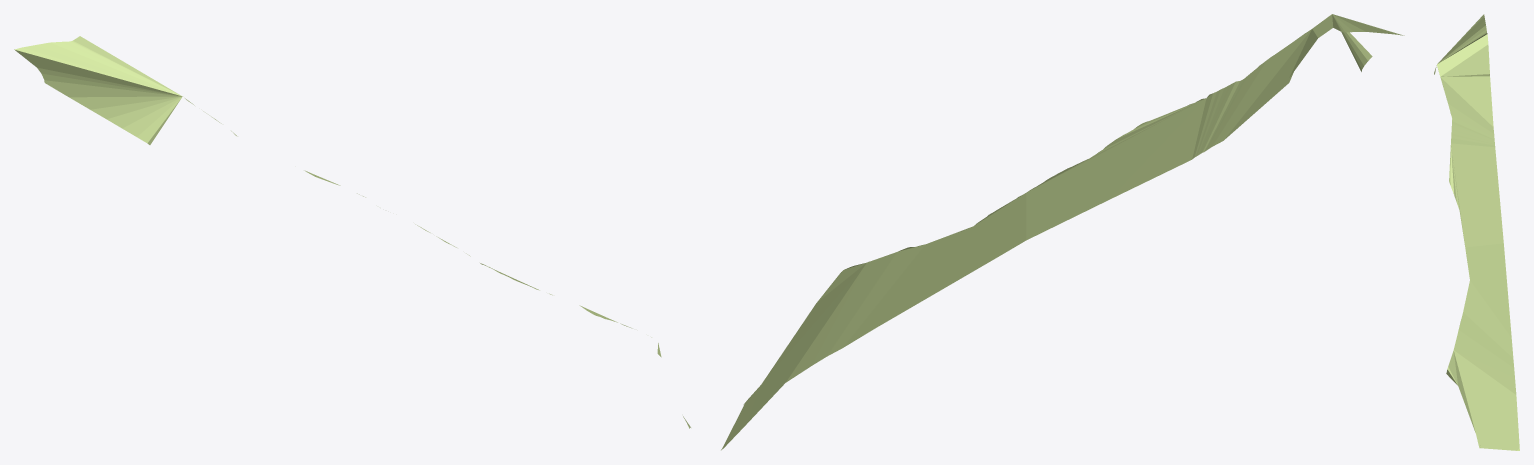
3 renders of one model, left to right at view 1: azimuth 30°, elevation 25°; view 2: azimuth 150°, elevation 25°; view 3: azimuth 270°, elevation 25°, orthographic. The views are drawn at different scales.
Size of the model in its own units: 140 by 110 by 30.85.
